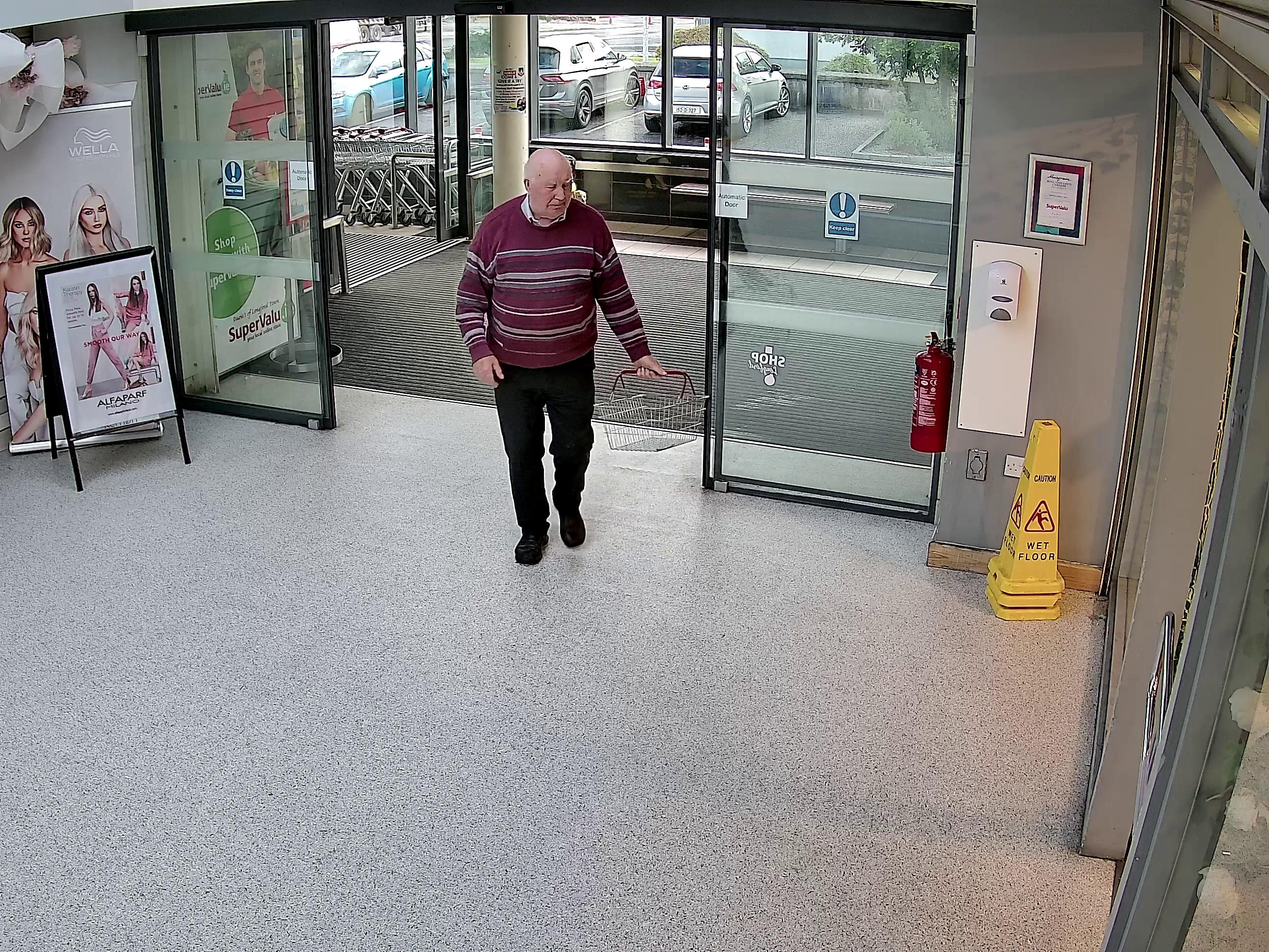empty-basket: (595, 368, 709, 451)
person: (456, 145, 666, 565)
person-with-empty-basket-trolly: (457, 144, 709, 565)
